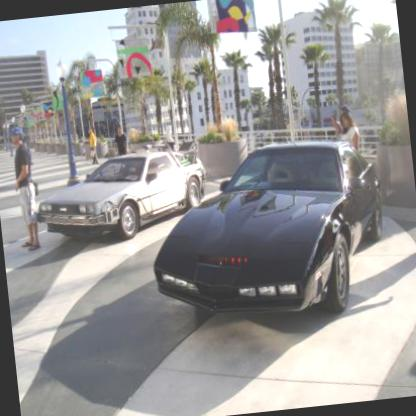car: (143, 121, 394, 338), (30, 140, 209, 248)
